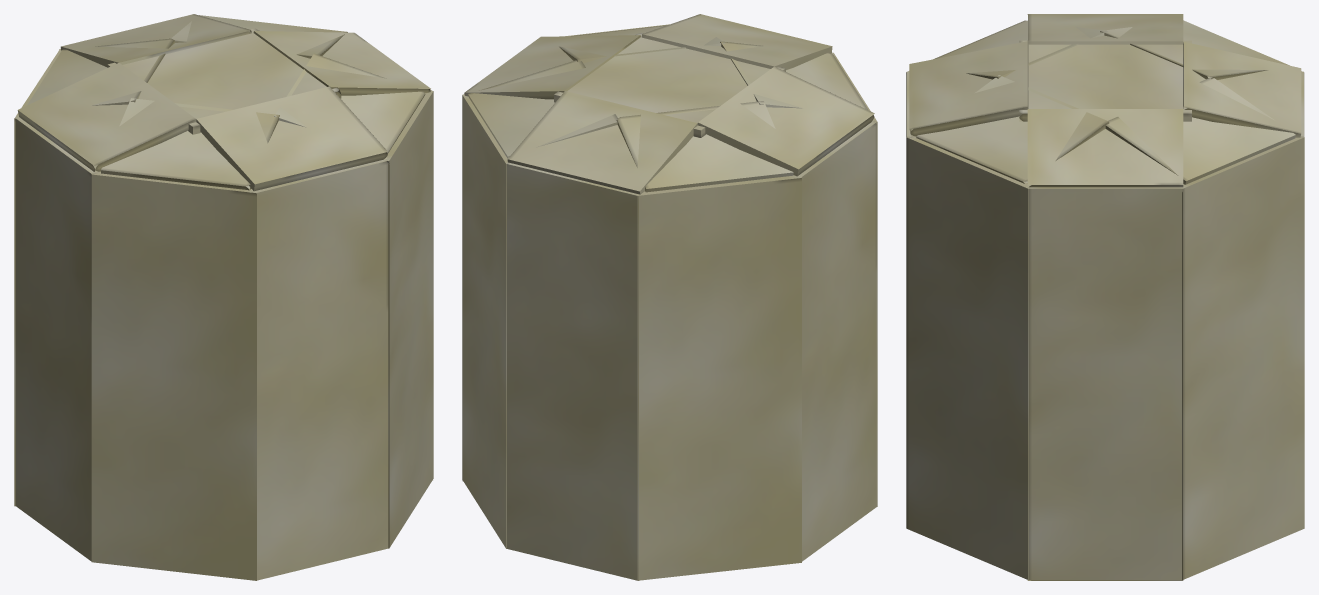
Rendered from rp1_tank.obj.
3 views of the same model, side by side, from view 1: azimuth 30°, elevation 25°; view 2: azimuth 150°, elevation 25°; view 3: azimuth 270°, elevation 25° (orthographic).
Parts seen in each view (by area): view 1: RP1Tank; view 2: RP1Tank; view 3: RP1Tank.
Part boxes in pixels (x1,y1,x2,y2): RP1Tank: (14, 14, 433, 580); RP1Tank: (462, 14, 877, 580); RP1Tank: (906, 14, 1304, 580).
Size of the model in its own units: 2.89 by 3.68 by 2.88.
